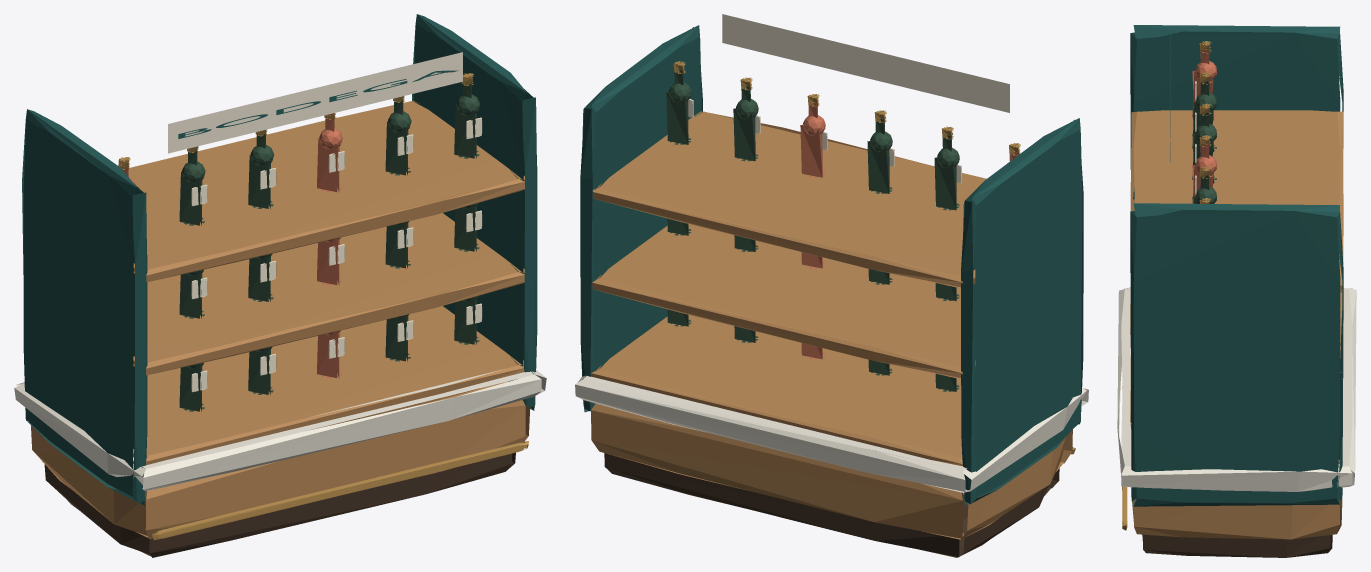
File: good.glb
3 renders of one model, left to right at view 1: azimuth 30°, elevation 25°; view 2: azimuth 150°, elevation 25°; view 3: azimuth 270°, elevation 25°, orthographic. The views are drawn at different scales.
Parts seen in each view (by area): view 1: Native component 6, Native component 3, Native component 1, Native component 64, Native component 0, Native component 5, Native component 46, Native component 2, Native component 10, Sign BODEGA; view 2: Native component 6, Native component 3, Native component 1, Native component 0, Native component 5, Native component 64, Native component 10, Native component 2; view 3: Native component 3, Native component 6, Native component 1, Native component 0, Native component 64, Native component 10, Native component 2.
Part boxes in pixels (x1,y1,x2,y2): Native component 6: [31, 100, 530, 539]; Native component 3: [22, 14, 537, 505]; Native component 1: [14, 360, 546, 491]; Native component 64: [179, 79, 480, 411]; Native component 0: [44, 452, 515, 557]; Native component 5: [168, 52, 462, 153]; Native component 46: [191, 117, 482, 392]; Native component 2: [118, 73, 528, 540]; Native component 10: [120, 113, 342, 378]; Sign BODEGA: [178, 70, 458, 138]; Native component 6: [591, 111, 1072, 539]; Native component 3: [580, 25, 1083, 505]; Native component 1: [575, 375, 1088, 492]; Native component 0: [604, 453, 1059, 557]; Native component 5: [722, 14, 1009, 112]; Native component 64: [666, 68, 959, 391]; Native component 10: [800, 100, 1020, 359]; Native component 2: [673, 61, 1075, 454]; Native component 3: [1130, 25, 1343, 506]; Native component 6: [1130, 110, 1343, 539]; Native component 1: [1117, 287, 1356, 491]; Native component 0: [1142, 534, 1332, 557]; Native component 64: [1192, 78, 1216, 203]; Native component 10: [1192, 46, 1216, 196]; Native component 2: [1122, 41, 1211, 530].
Bounding box in the file's own units: 2.05 × 1.98 × 1.09.
